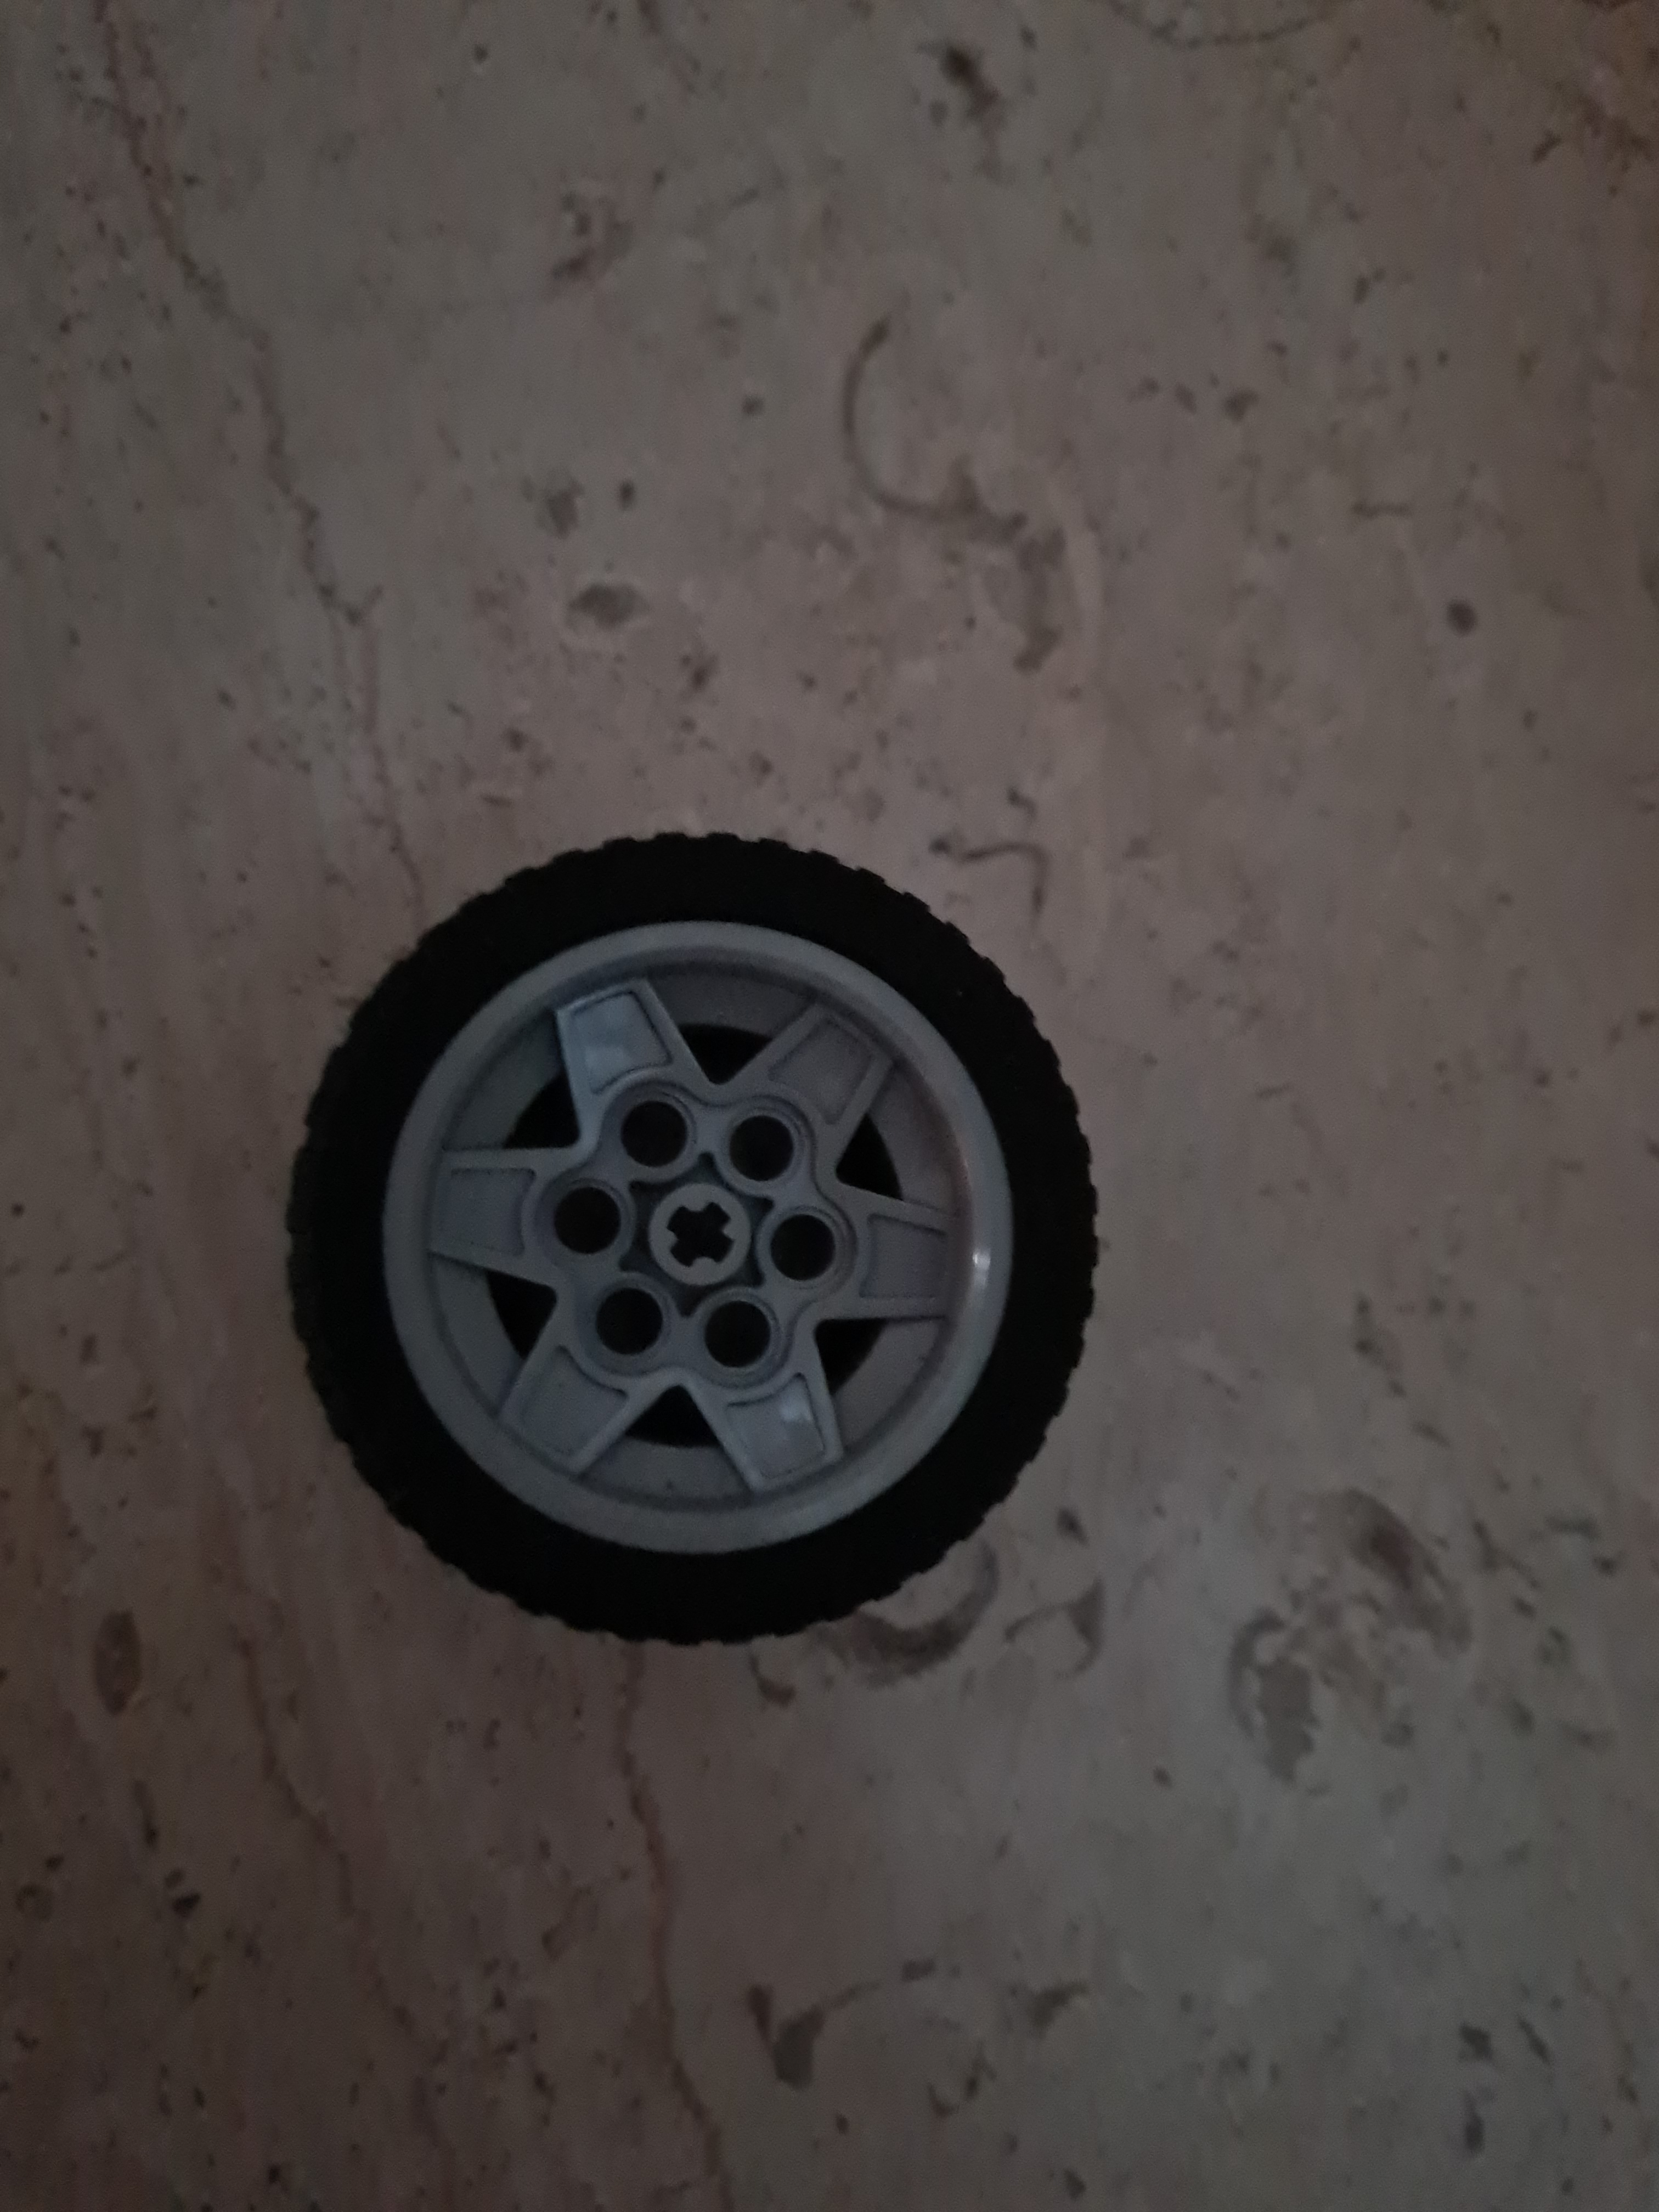Rad: (263, 803, 1131, 1651)
